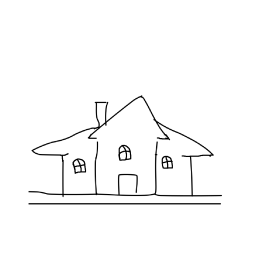chimney: (90, 86, 112, 135)
closed_window: (114, 141, 137, 164), (158, 151, 177, 172), (71, 158, 90, 175)
door: (115, 170, 145, 196)
single_line_roof: (84, 93, 170, 146)
wall: (90, 135, 162, 197)
